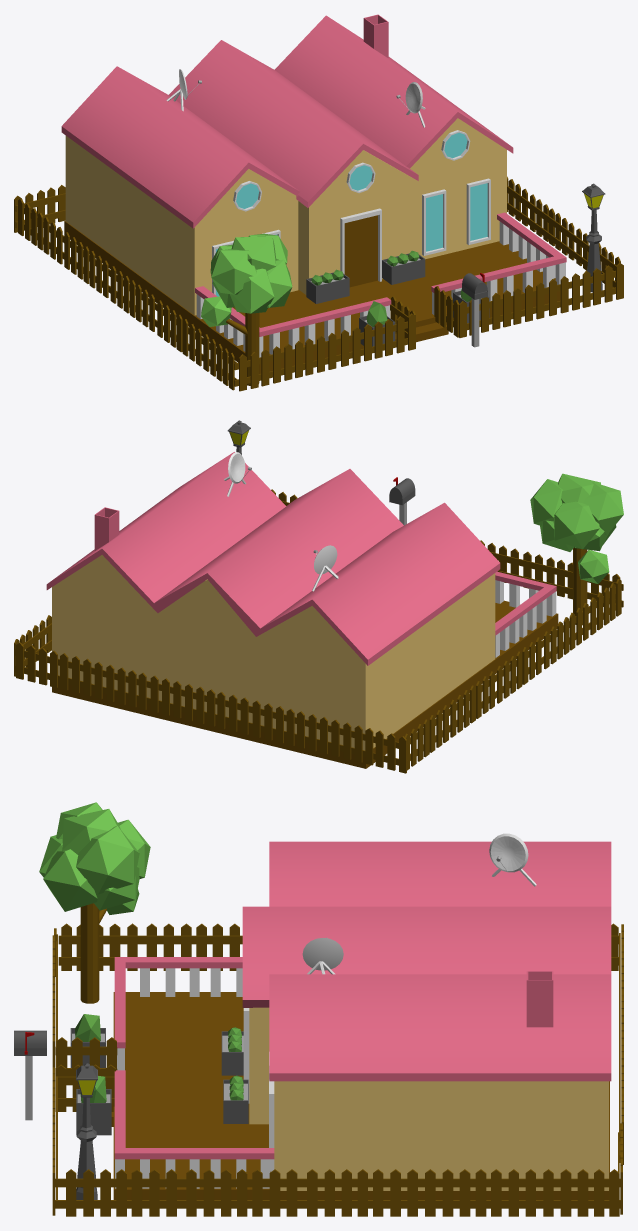
File: eee17.fbx
3 renders of one model, top to bottom at view 1: azimuth 30°, elevation 25°; view 2: azimuth 150°, elevation 25°; view 3: azimuth 270°, elevation 25°, orthographic. The views are drawn at different scales.
Parts seen in each view (by area): view 1: eee17; view 2: eee17; view 3: eee17.
Part boxes in pixels (left/top/right/bottom): eee17: left=14, top=14, right=623, bottom=391; eee17: left=14, top=420, right=623, bottom=773; eee17: left=14, top=802, right=623, bottom=1216.
Bounding box in the file's own units: 25.71 × 10.67 × 26.07.
